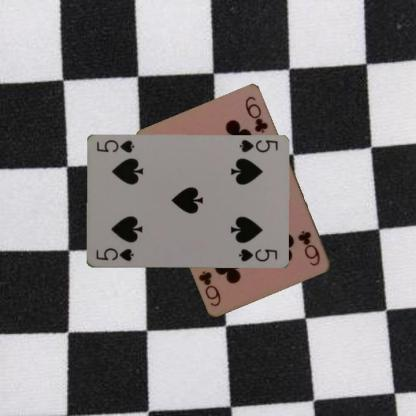5s: (93, 245, 135, 263), (236, 137, 279, 154)
6c: (295, 228, 322, 268)
